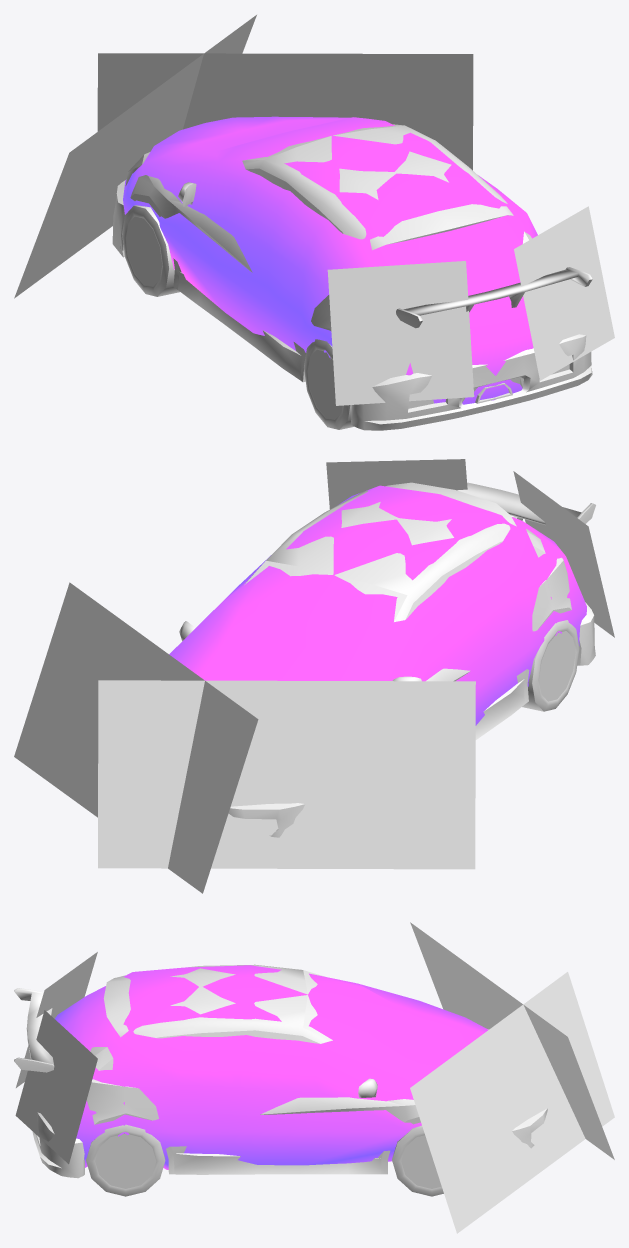
Rendered from Seat.fbx.
3 renders of one model, top to bottom at view 1: azimuth 30°, elevation 25°; view 2: azimuth 150°, elevation 25°; view 3: azimuth 270°, elevation 25°, orthographic. The views are drawn at different scales.
Parts seen in each view (by area): view 1: SeatProxy, SeatFrontLights, SeatRearLights, Seat, SeatRearBumper2, SeatWheel_LF, SeatWheel_LB, SeatSpoiler1, SeatGlass, SeatFrontBumper2; view 2: SeatFrontLights, SeatProxy, Seat, SeatRearLights, SeatWheel_LB, SeatGlass, SeatSpoiler1, SeatFrontBumper2, SeatRearBumper2; view 3: SeatProxy, SeatFrontLights, Seat, SeatRearLights, SeatWheel_RB, SeatWheel_RF, SeatSpoiler1, SeatRearBumper2, SeatGlass, SeatFrontBumper2.
Boxes of the visible parts, x1,y1,x2,y2 form: SeatProxy: (123,116,537,404); SeatFrontLights: (14,15,473,298); SeatRearLights: (327,206,614,405); Seat: (120,125,531,382); SeatRearBumper2: (351,334,592,430); SeatWheel_LF: (122,205,179,296); SeatWheel_LB: (304,339,354,429); SeatSpoiler1: (396,267,592,328); SeatGlass: (243,124,528,243); SeatFrontBumper2: (112,180,125,257); SeatFrontLights: (14,582,475,893); SeatProxy: (169,485,586,725); Seat: (179,482,571,739); SeatRearLights: (326,459,614,637); SeatWheel_LB: (522,620,579,711); SeatGlass: (244,529,544,621); SeatSpoiler1: (457,482,595,525); SeatFrontBumper2: (228,803,304,837); SeatRearBumper2: (577,602,595,665); SeatProxy: (55,965,488,1169); SeatFrontLights: (410,922,614,1233); Seat: (86,964,488,1174); SeatRearLights: (15,952,97,1164); SeatWheel_RB: (86,1124,165,1196); SeatWheel_RF: (392,1125,443,1196); SeatSpoiler1: (14,988,54,1072); SeatRearBumper2: (32,1112,84,1178); SeatGlass: (90,970,331,1070); SeatFrontBumper2: (512,1108,547,1148).
Bounding box in the file's own units: 3.82 × 5.15 × 1.56.
